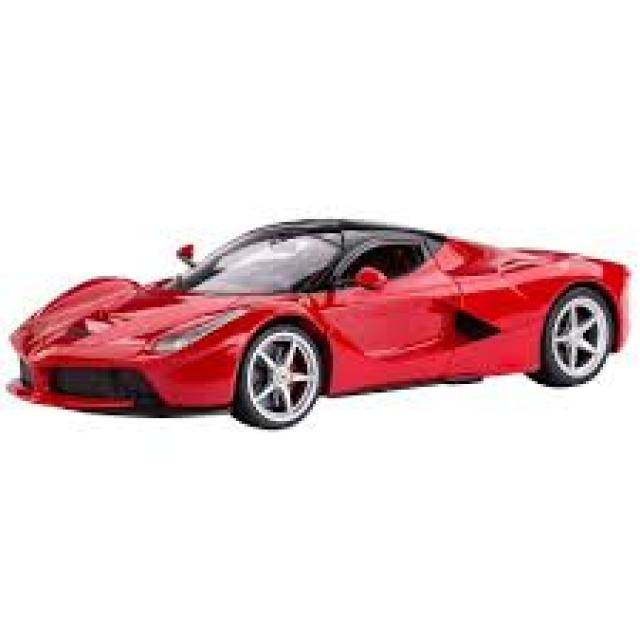Car: (3, 216, 631, 430)
